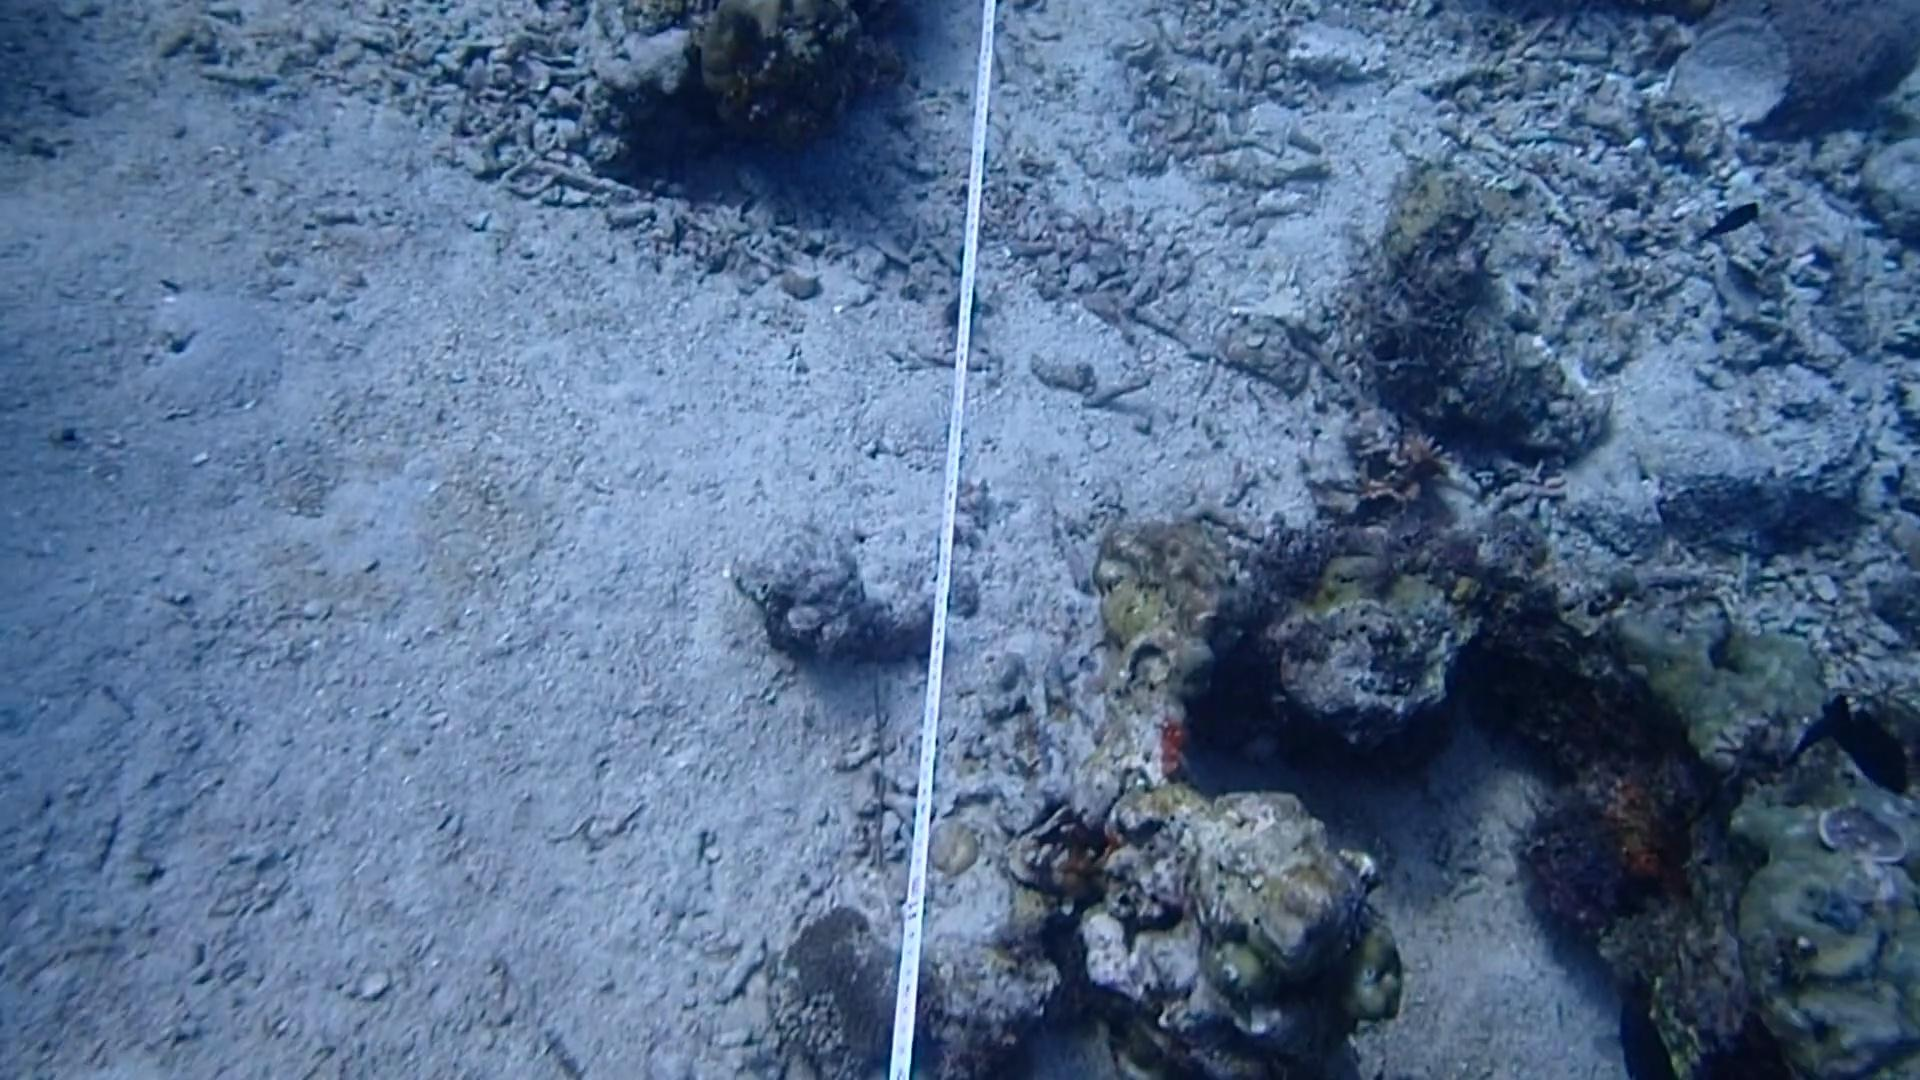Dark Fish: (1805, 676, 1916, 803), (1688, 183, 1763, 247)
